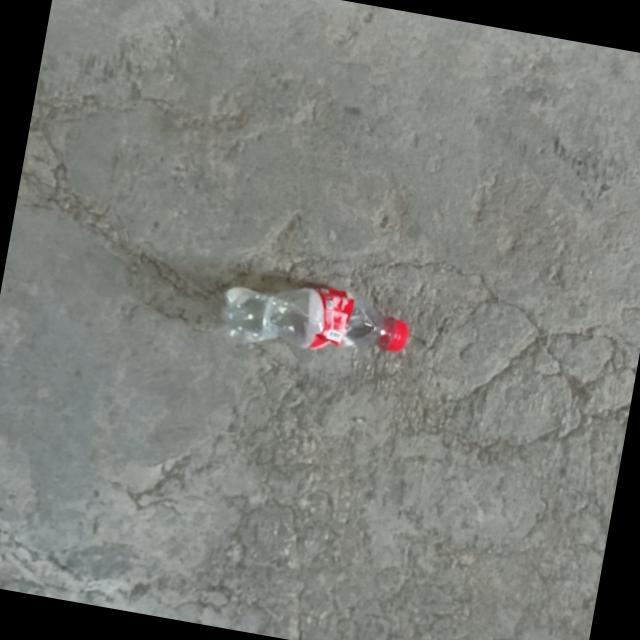Bottle: (222, 284, 409, 351)
